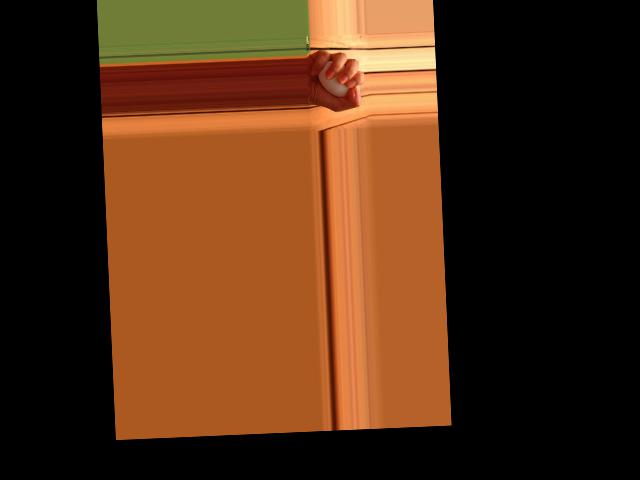egg: (317, 59, 352, 97)
